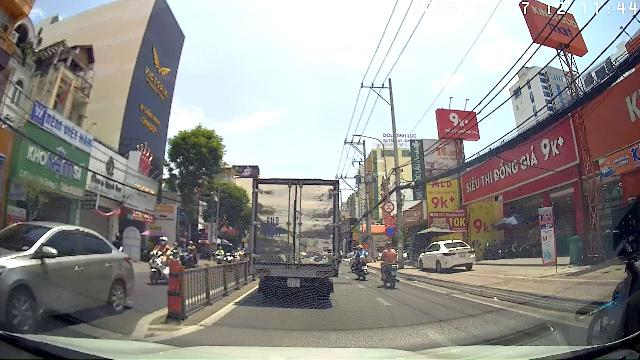131a-cam-do-xe: (384, 227, 396, 238)
